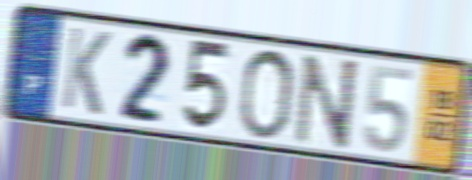2: (116, 31, 174, 130)
5: (179, 36, 236, 134), (362, 62, 416, 155)
K: (58, 23, 114, 119)
N: (292, 51, 362, 151)
O: (235, 47, 297, 142)
